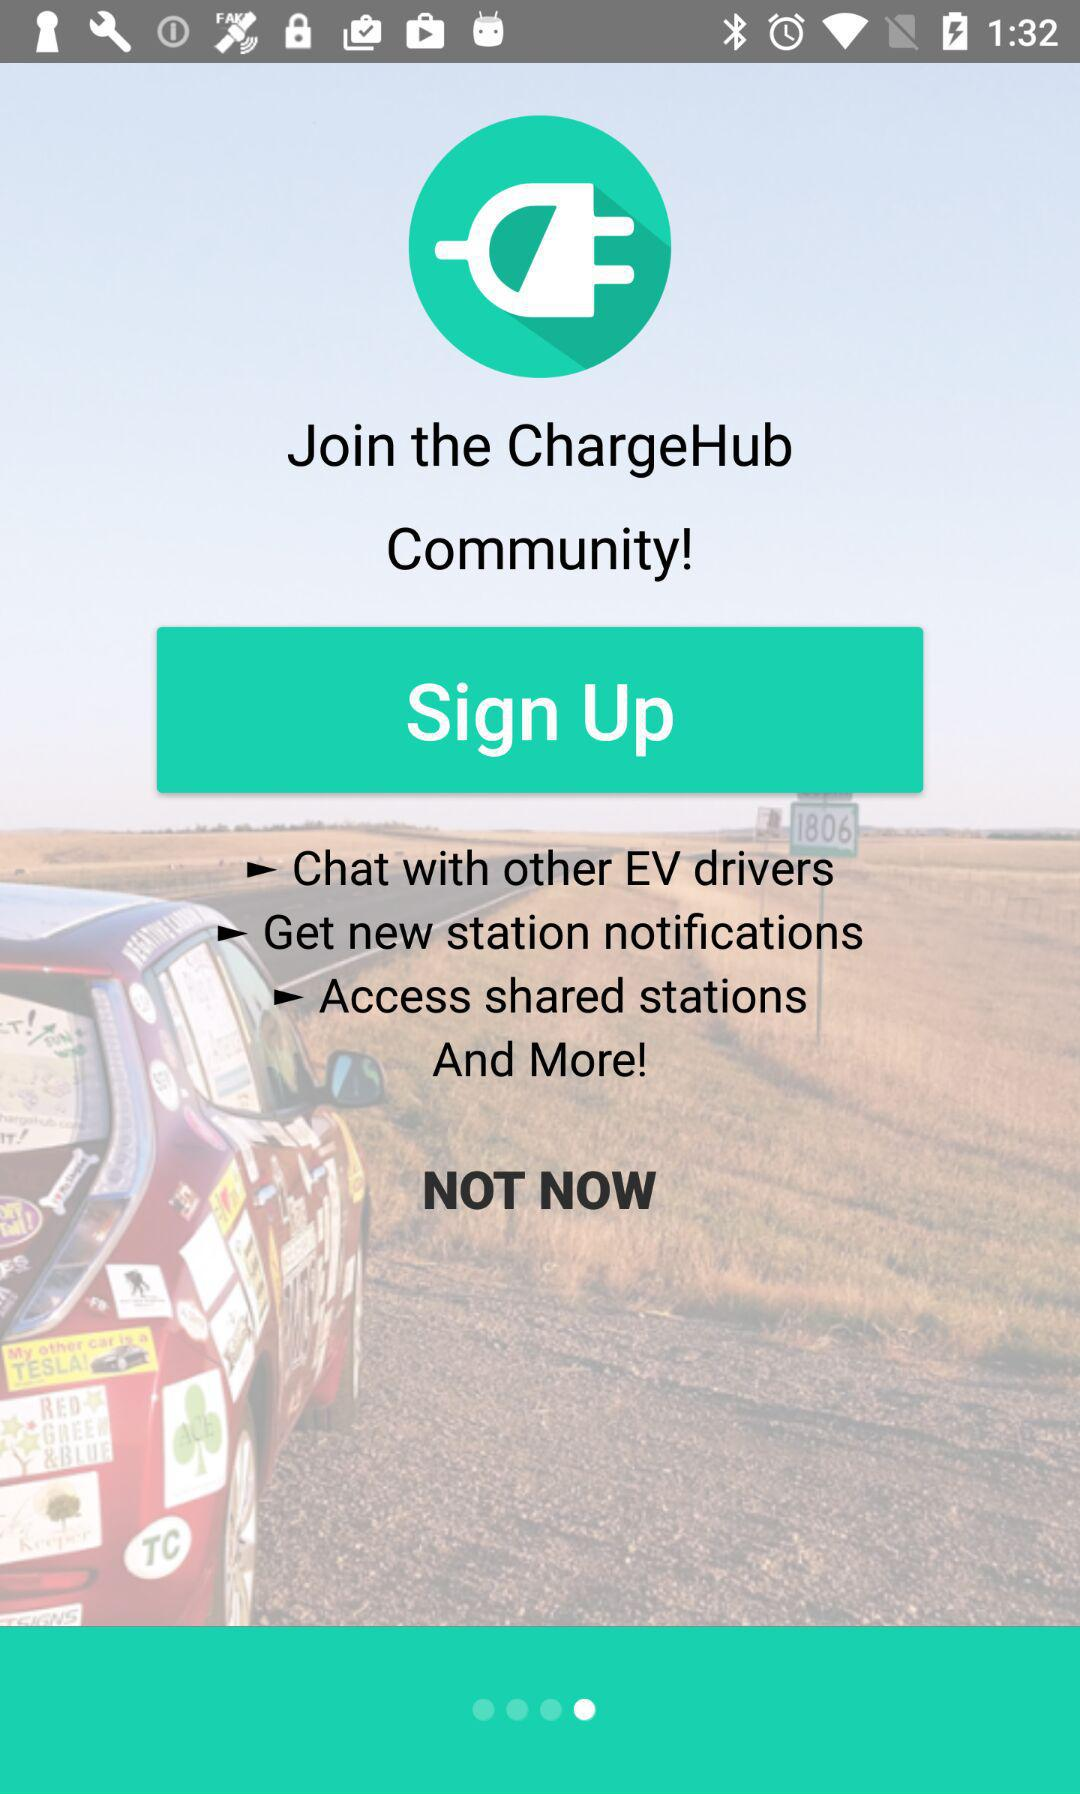BackgroundImage: (1, 64, 1080, 1627)
Image: (407, 115, 673, 381)
PageIndicator: (470, 1695, 598, 1725)
Text: (286, 422, 793, 481), (211, 910, 863, 953), (240, 844, 833, 889), (269, 975, 807, 1015), (387, 524, 693, 586), (423, 1169, 659, 1211), (428, 1035, 647, 1080)
TextButton: (158, 627, 924, 794)
UpperTaskBar: (1, 1, 1080, 64)
